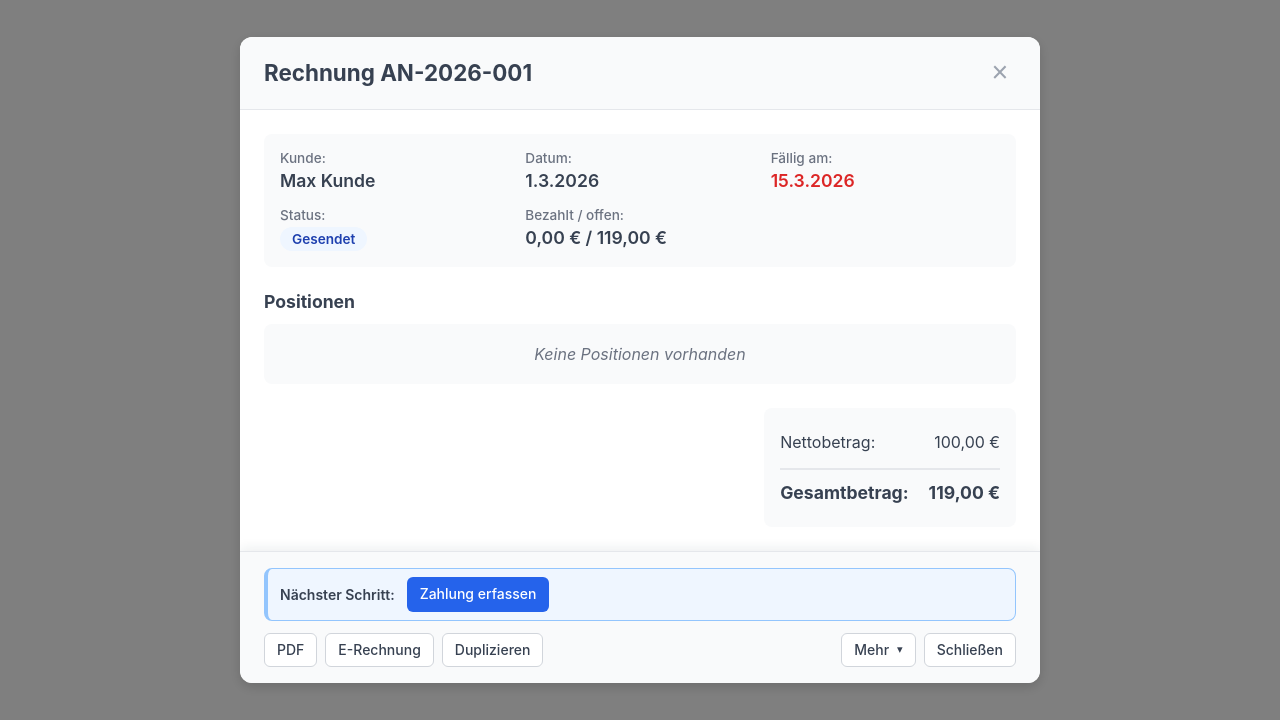
Test case: DocumentViewModal — the "Mehr" menu › is a menu button that opens on click and moves the focus to the first entry
Click the button "Mehr ▾" at (878, 650), box [841, 632, 916, 667]
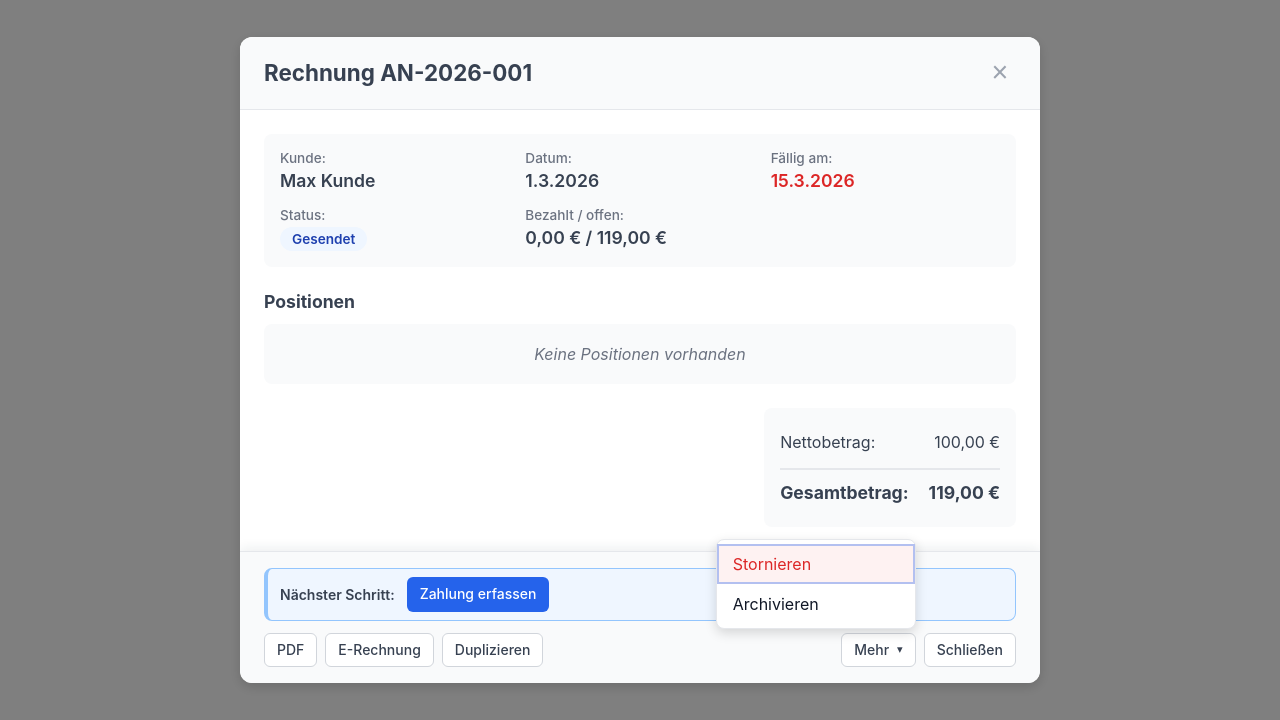
Expected: the menu item "Stornieren" is shown, [717, 544, 915, 584]
